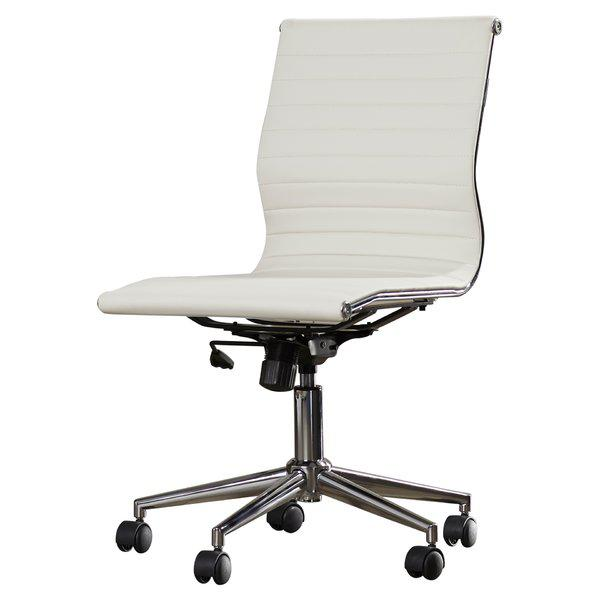chair: (83, 6, 552, 596)
